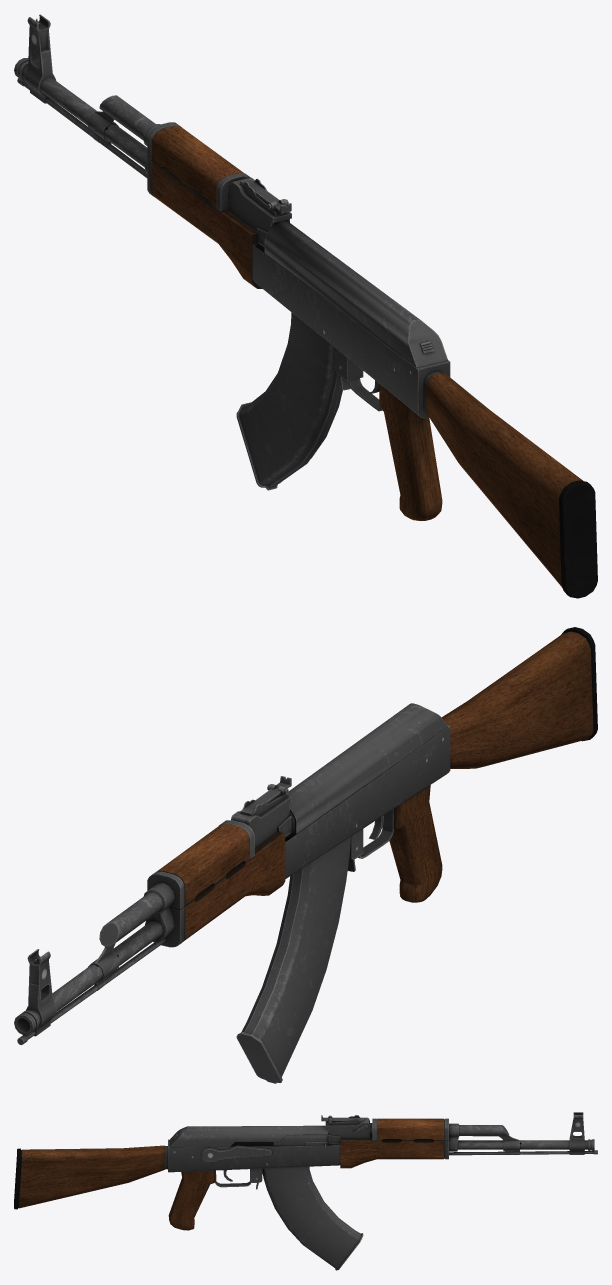
3 views of the same model, one above another, from view 1: azimuth 30°, elevation 25°; view 2: azimuth 150°, elevation 25°; view 3: azimuth 270°, elevation 25° (orthographic). The views are drawn at different scales.
Parts seen in each view (by area): view 1: AK_47; view 2: AK_47; view 3: AK_47.
Boxes of the visible parts, bbox=[...] form: AK_47: bbox=[14, 14, 597, 598]; AK_47: bbox=[14, 627, 597, 1083]; AK_47: bbox=[14, 1112, 597, 1270].
Size of the model in its own units: 0.0401 by 0.2591 by 0.8796.
1 material, 1 textured.
